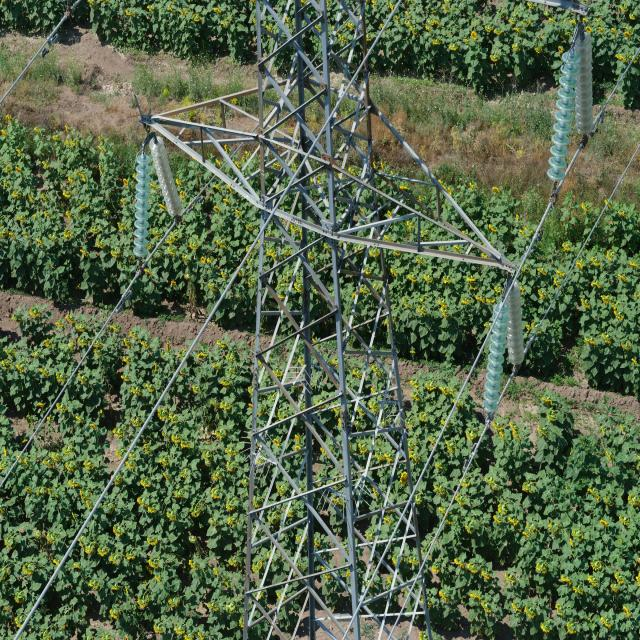direk: (237, 2, 435, 640)
